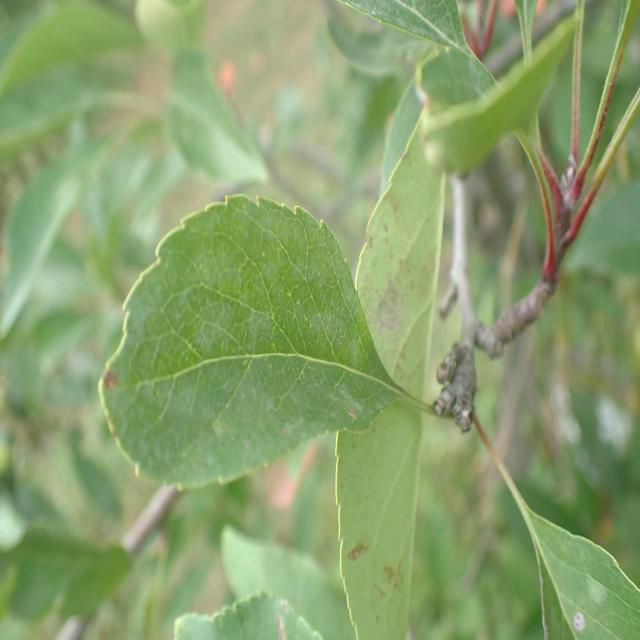Black Rot: (100, 356, 126, 410), (568, 603, 587, 635)
Powdery_mildew: (137, 205, 395, 498)
